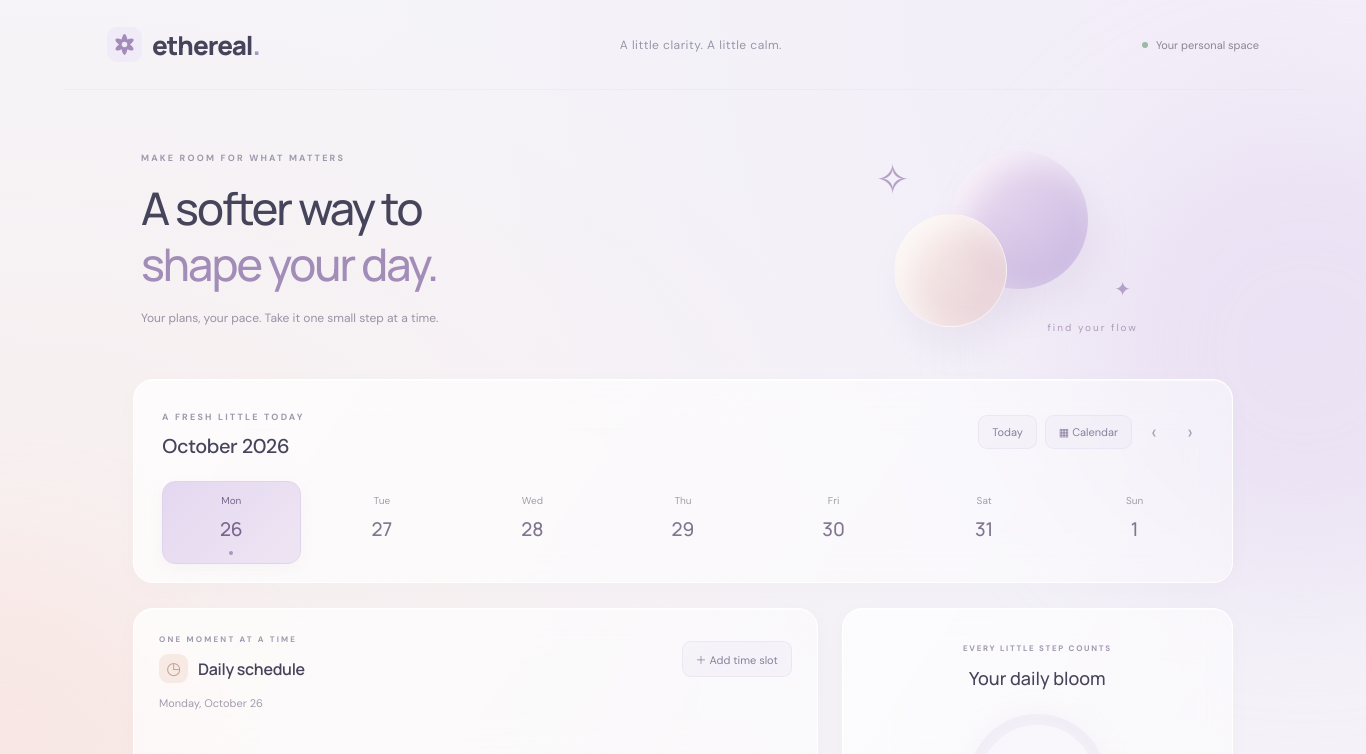
Test case: recovers from invalid local data and closes the calendar with Escape
Expected: the heading "shape your day" is shown, [141, 180, 438, 292]
Step 1. Click the button "▦ Calendar" → {"x": 1088, "y": 432}, box [1045, 414, 1132, 448]
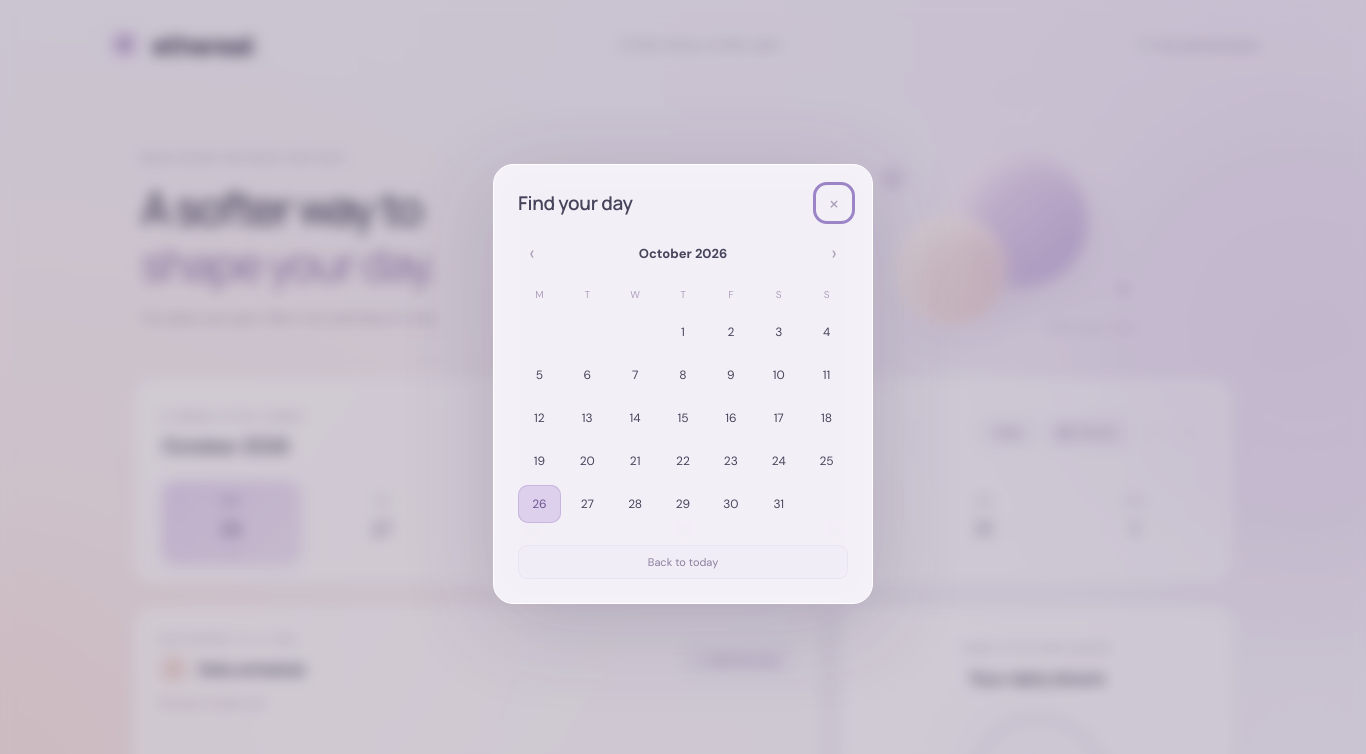
Expected: the dialog is shown, [493, 164, 873, 604]
Step 2. Press Escape
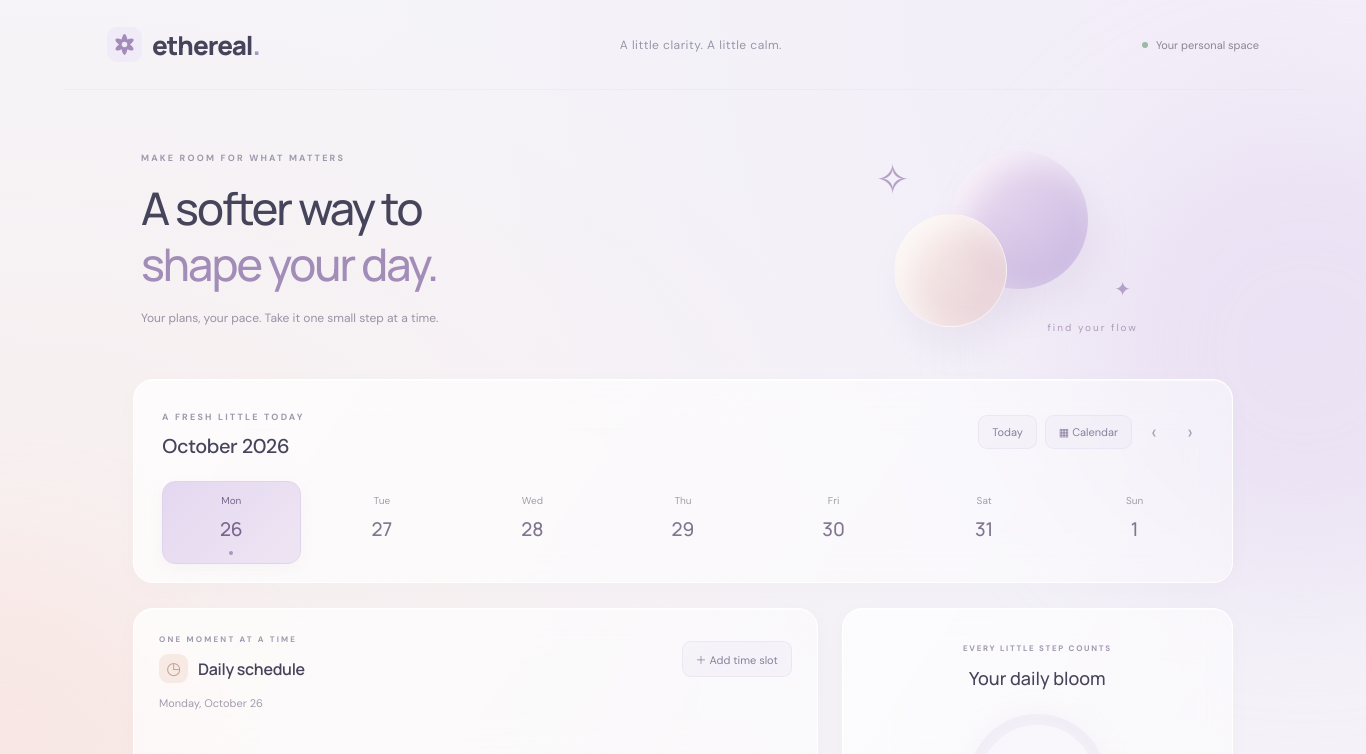
Expected: the dialog is gone
